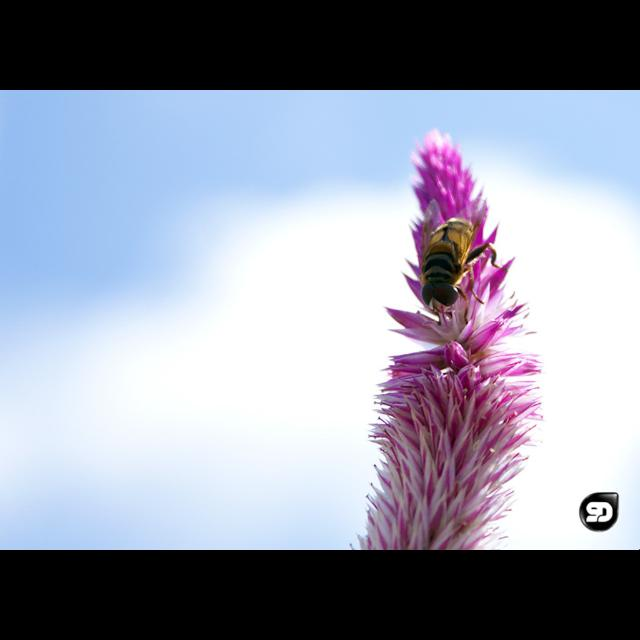Flower: (354, 130, 540, 550)
